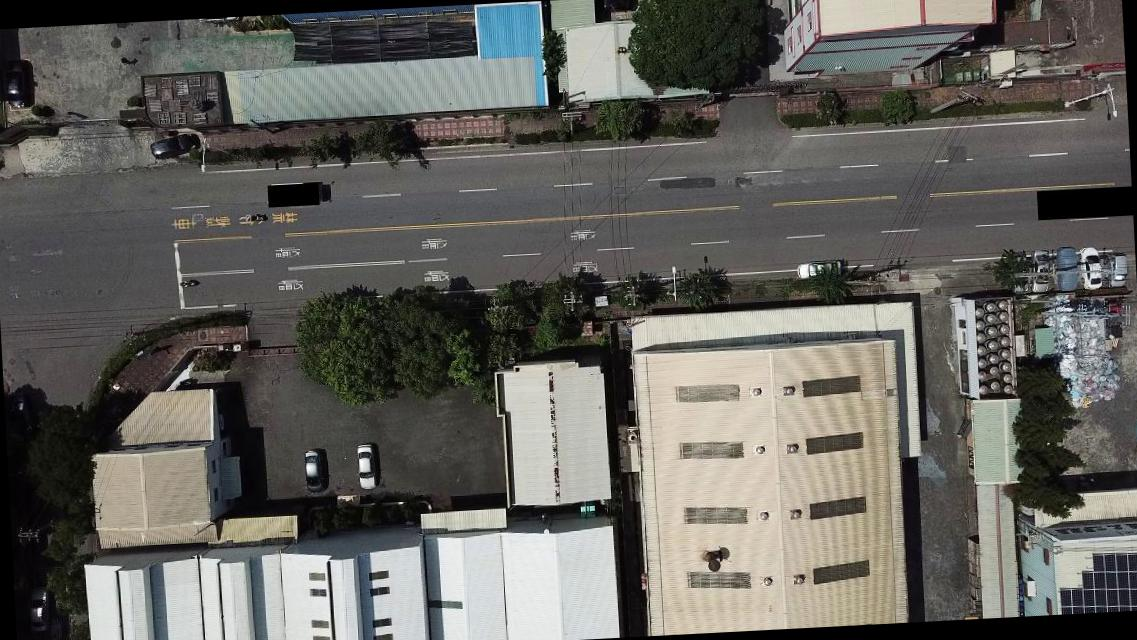vehicle: (148, 132, 198, 161), (26, 586, 52, 632), (1077, 247, 1103, 292), (303, 448, 326, 496), (356, 442, 378, 492), (1054, 248, 1078, 292), (794, 261, 843, 281), (1102, 253, 1127, 291), (6, 62, 26, 109), (1030, 250, 1050, 293), (1014, 254, 1030, 294)
